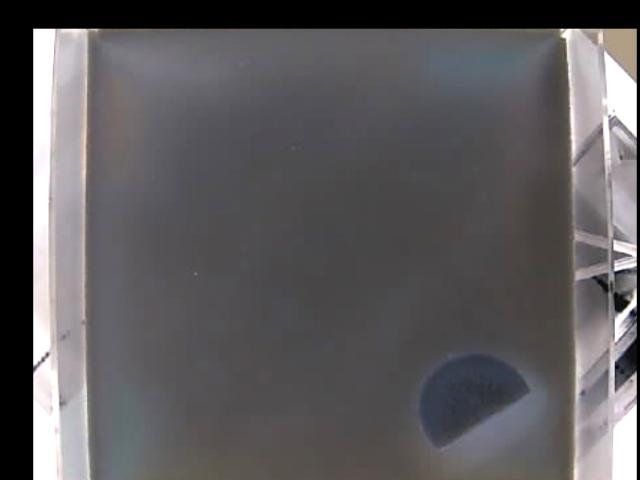Mooli: (417, 352, 533, 445)
